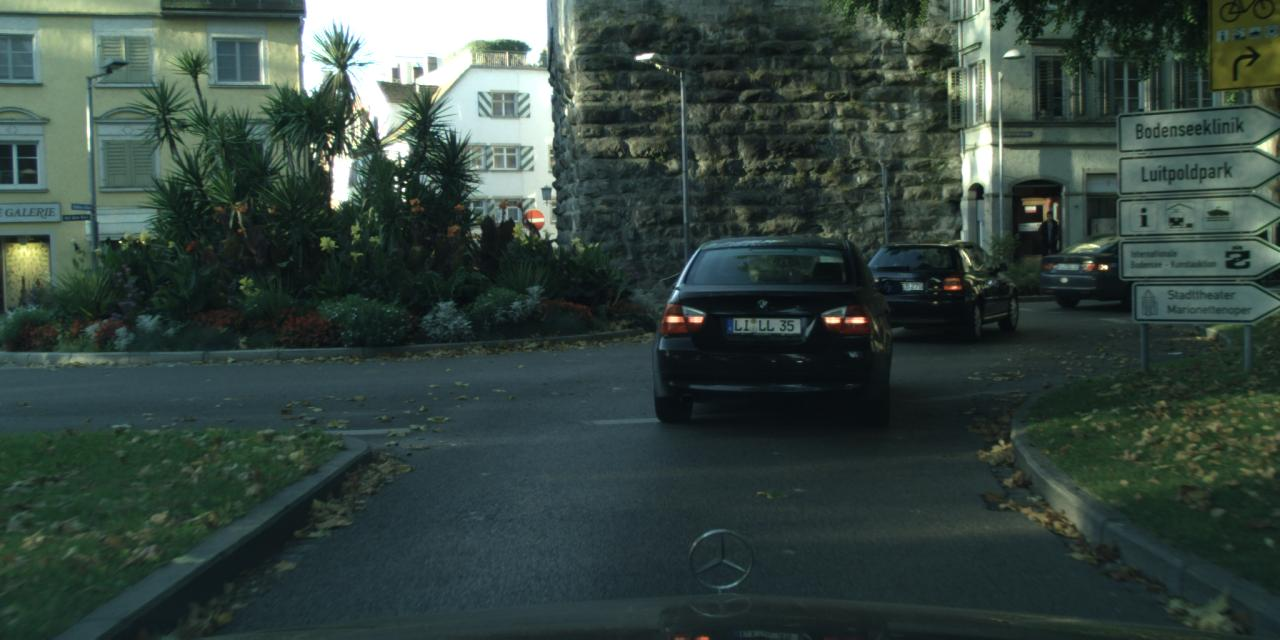ped: (1036, 210, 1061, 273)
